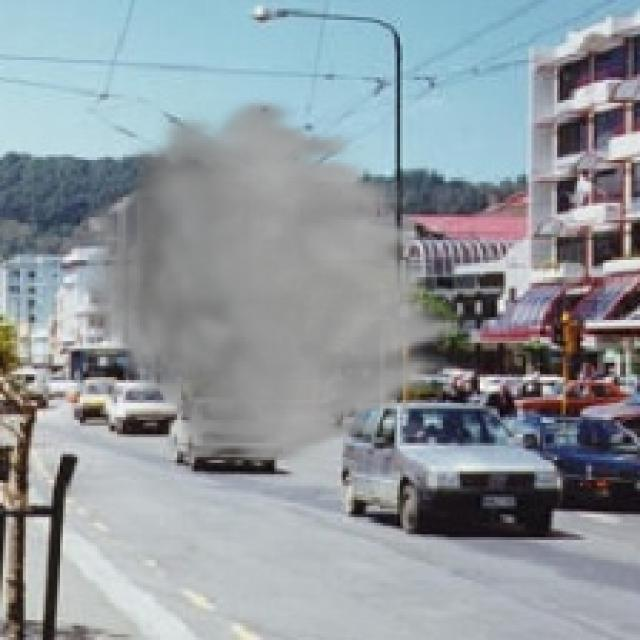Smoke: (77, 94, 480, 469)
